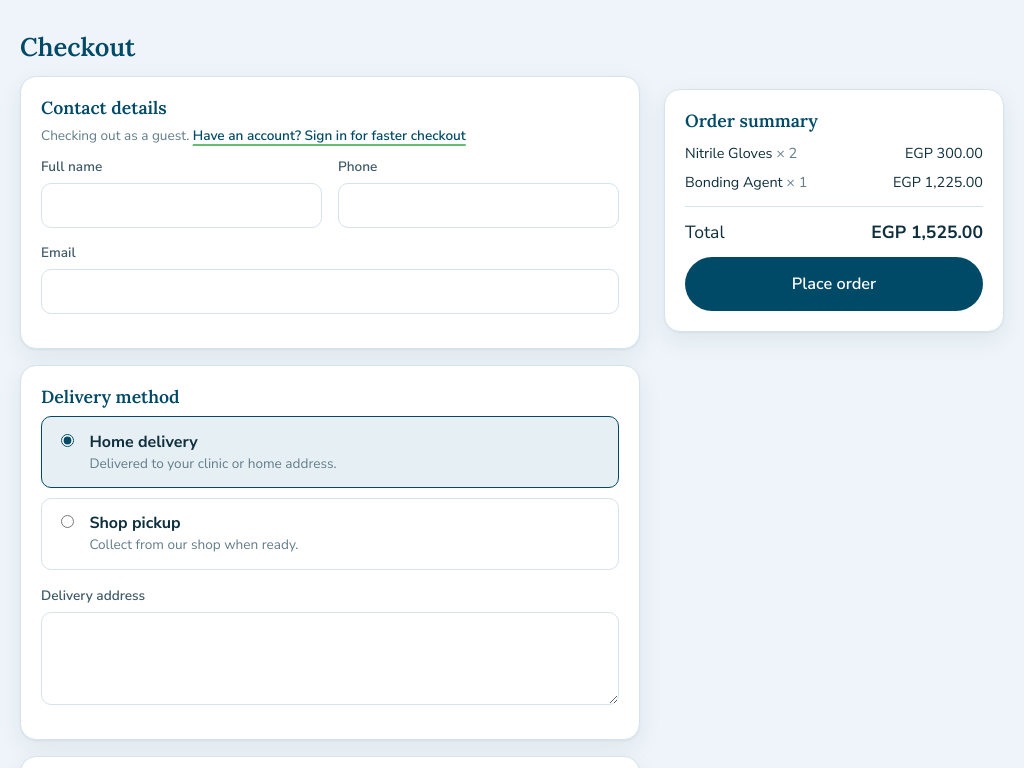
Test: Checkout (guest) › home delivery, cash on delivery: sends the order and shows the confirmation
The image size is (1024, 768).
Expected: the text "EGP 1,525.00" is shown, [871, 218, 983, 245]
Type "Dr. Sara Mahmoud" into the field labelled "Full name". click: (182, 206)
box: [41, 183, 322, 228]
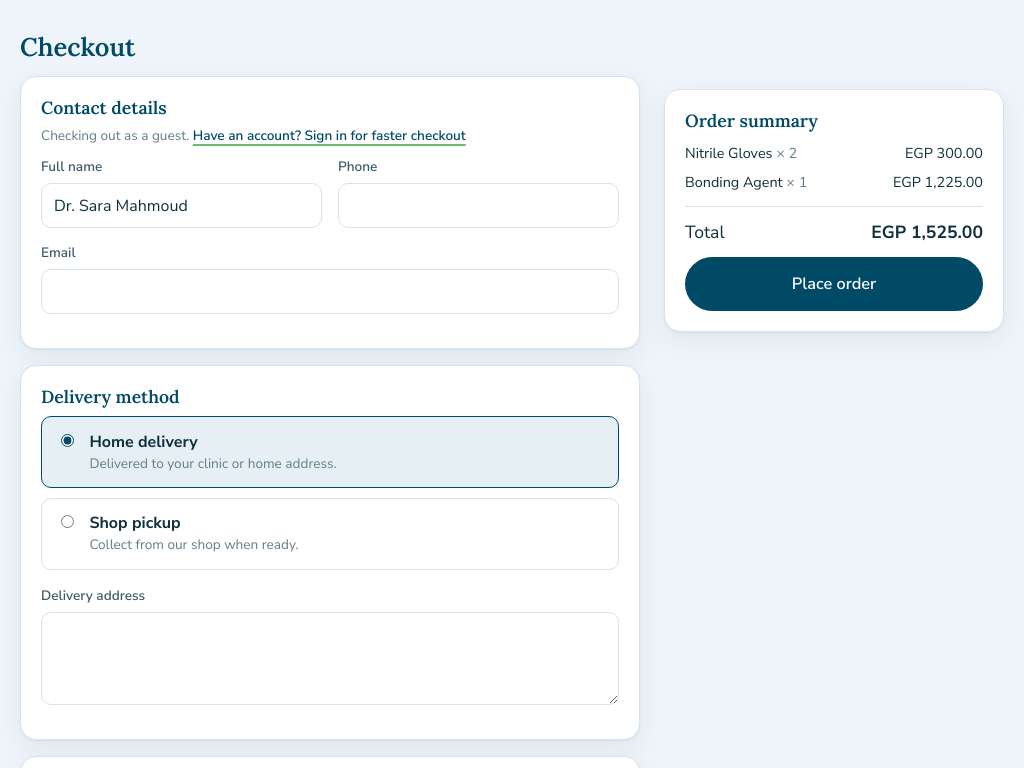
Type "+20 100 111 2233" into the field labelled "Phone". click: (478, 206)
box: [338, 183, 619, 228]
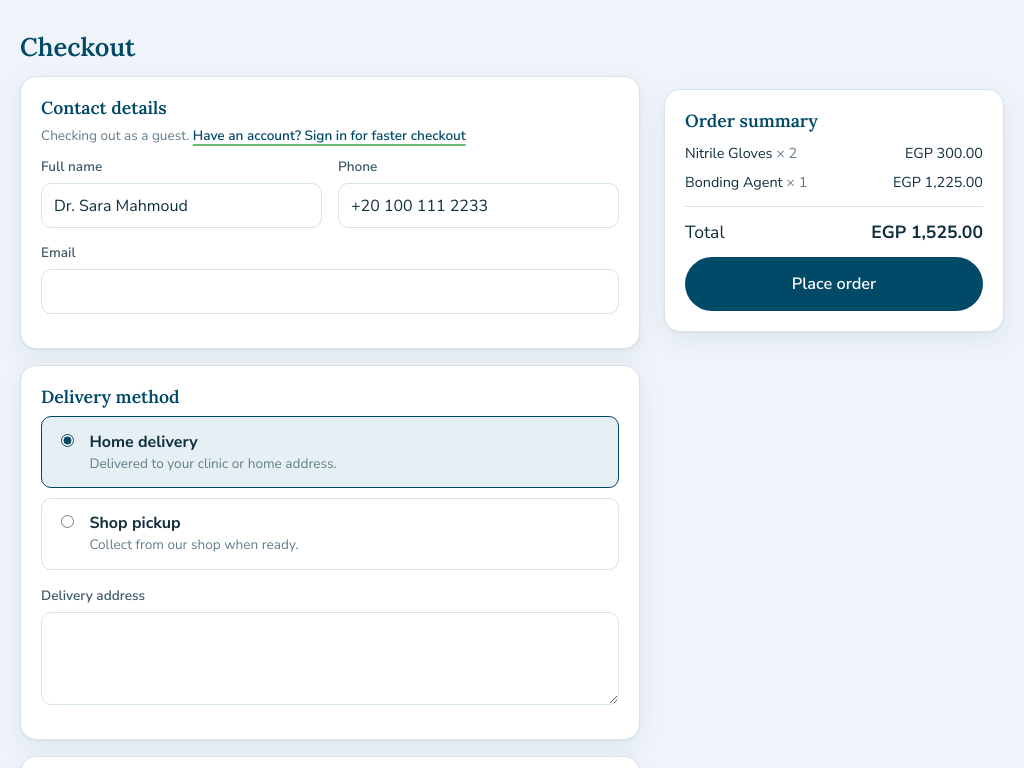
Type "sara@clinic.example" into the field labelled "Email". click: (330, 291)
box: [41, 268, 619, 314]
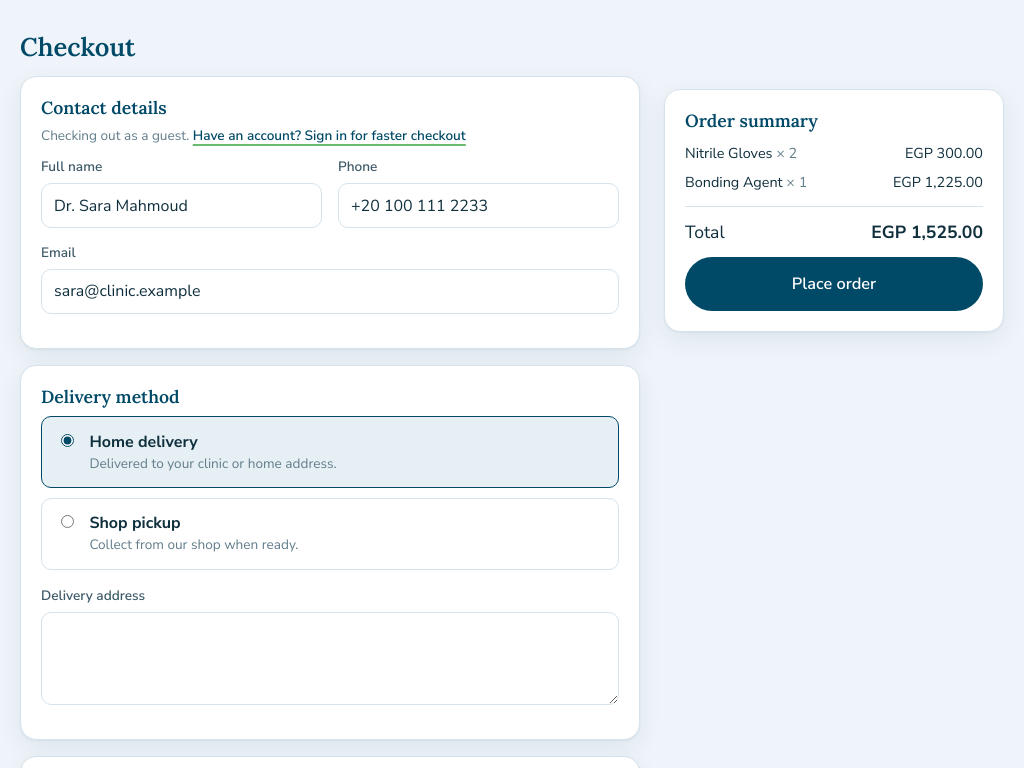
Type "12 Mostafa El Nahas, Nasr City" into the text box labelled "Delivery address". click: (330, 658)
box: [41, 612, 619, 705]
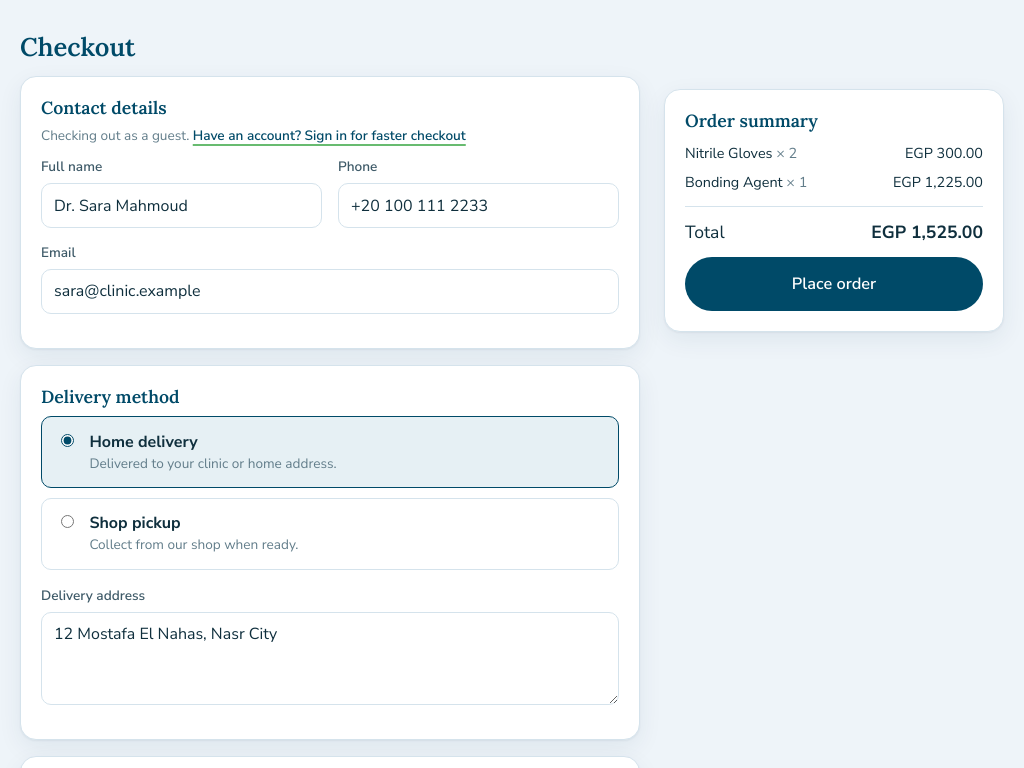
Click the button "Place order". click: (834, 284)
box: [685, 257, 983, 310]
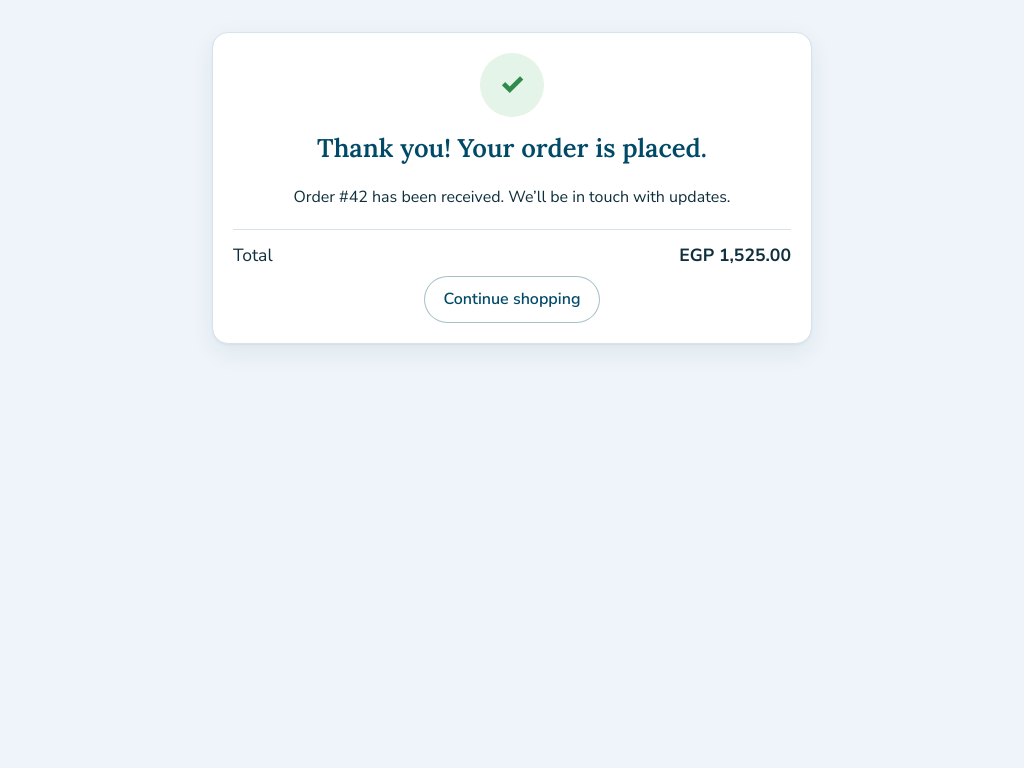
Expected: the heading "Thank you! Your order is placed." is shown, [317, 131, 707, 164]
